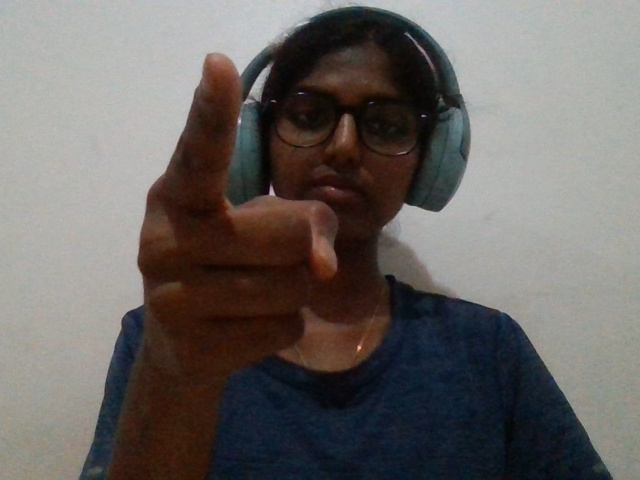You: (104, 33, 355, 416)
